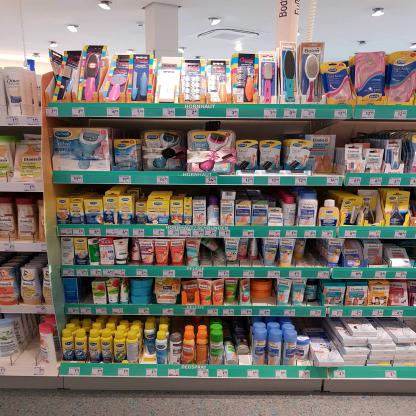Void: (240, 122, 305, 139), (16, 317, 36, 365), (50, 119, 108, 128), (116, 120, 140, 139), (338, 121, 358, 141), (220, 315, 242, 332), (80, 278, 94, 304), (308, 240, 320, 266), (174, 317, 182, 331)
